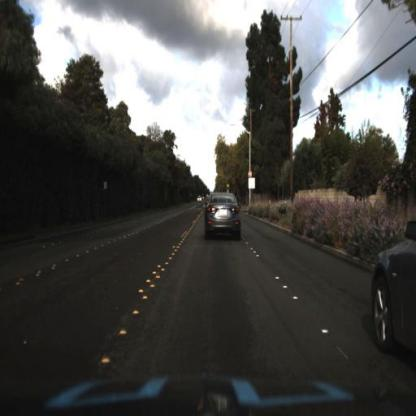car: (373, 213, 415, 368), (201, 188, 248, 248)
